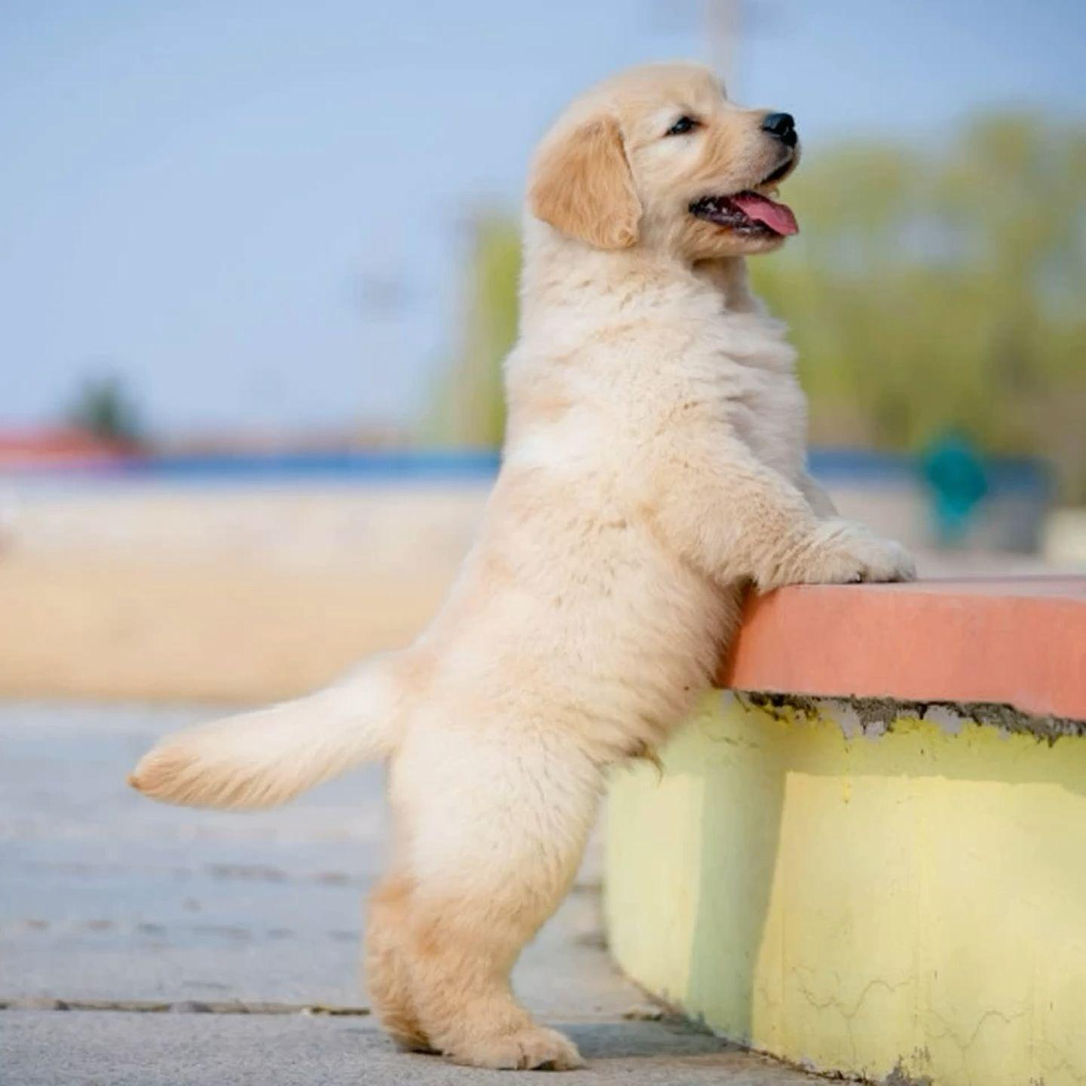puppy-dog: (127, 59, 916, 1073)
